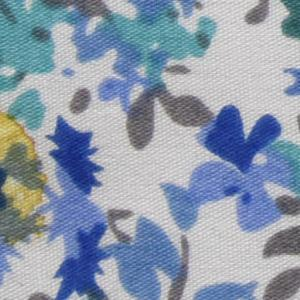Oil Stain: (1, 110, 50, 252)
